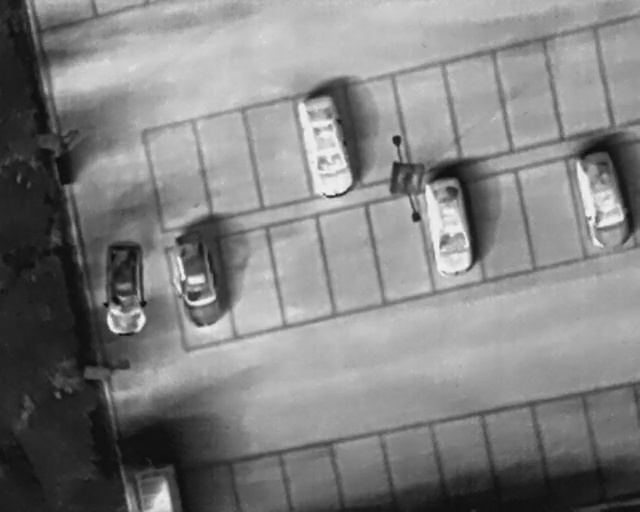Car: (570, 148, 634, 255), (293, 91, 354, 202), (422, 174, 477, 278), (169, 237, 225, 330), (107, 240, 146, 336)
